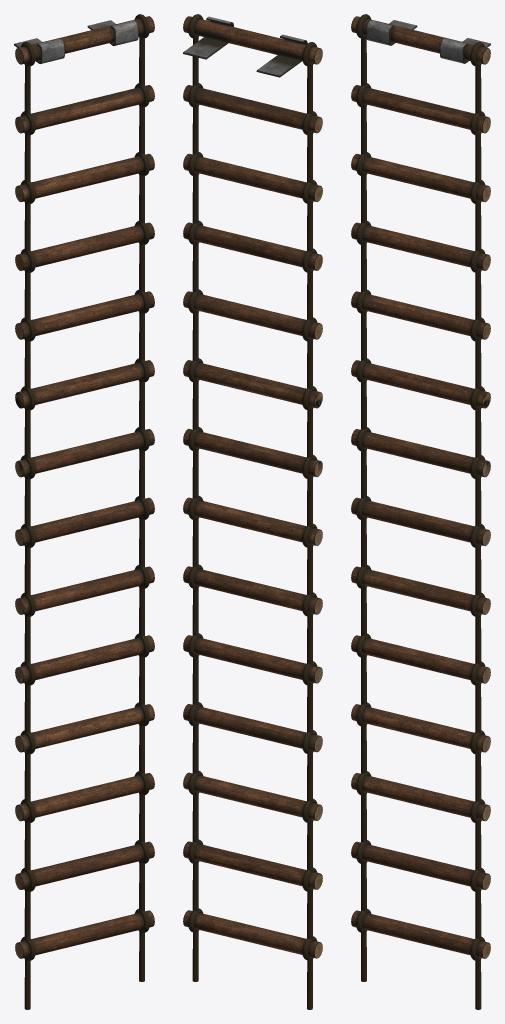
Rendered from bridge2.glb.
3 views of the same model, side by side, from view 1: azimuth 30°, elevation 25°; view 2: azimuth 150°, elevation 25°; view 3: azimuth 330°, elevation 25° (orthographic).
Parts seen in each view (by area): view 1: Cube_1__0; view 2: Cube_1__0; view 3: Cube_1__0.
Part boxes in pixels (x1,y1,x2,y2): Cube_1__0: (14, 14, 154, 1009); Cube_1__0: (183, 14, 322, 1009); Cube_1__0: (351, 14, 490, 1009).
Bounding box in the file's own units: 0.4996 × 3.51 × 0.1867.
Materials: 1 (1 with a texture image).
